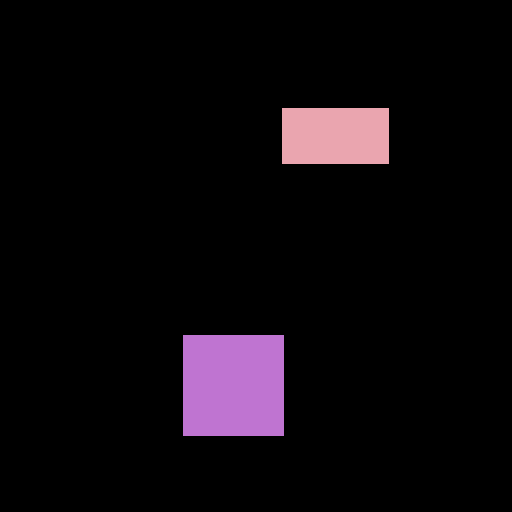rectangle: (282, 108, 388, 163)
square: (183, 335, 283, 435)
